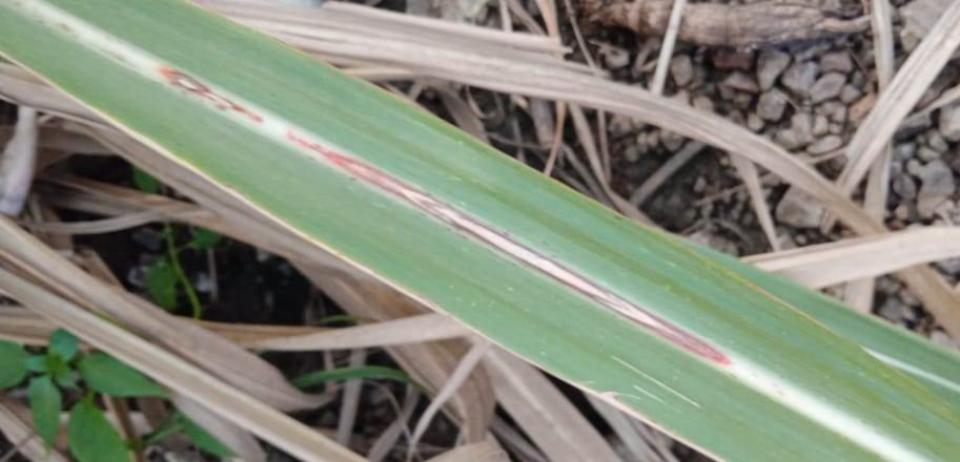RedRot: (287, 130, 735, 365), (155, 67, 266, 127)
